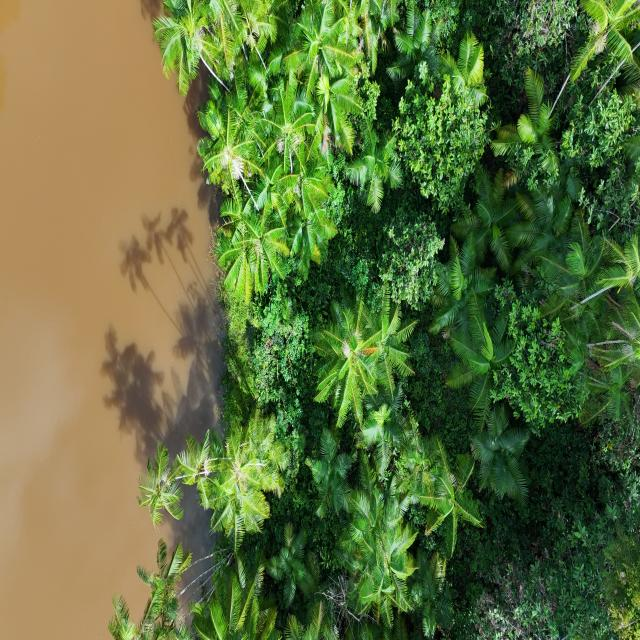vegetation: (107, 1, 638, 638)
